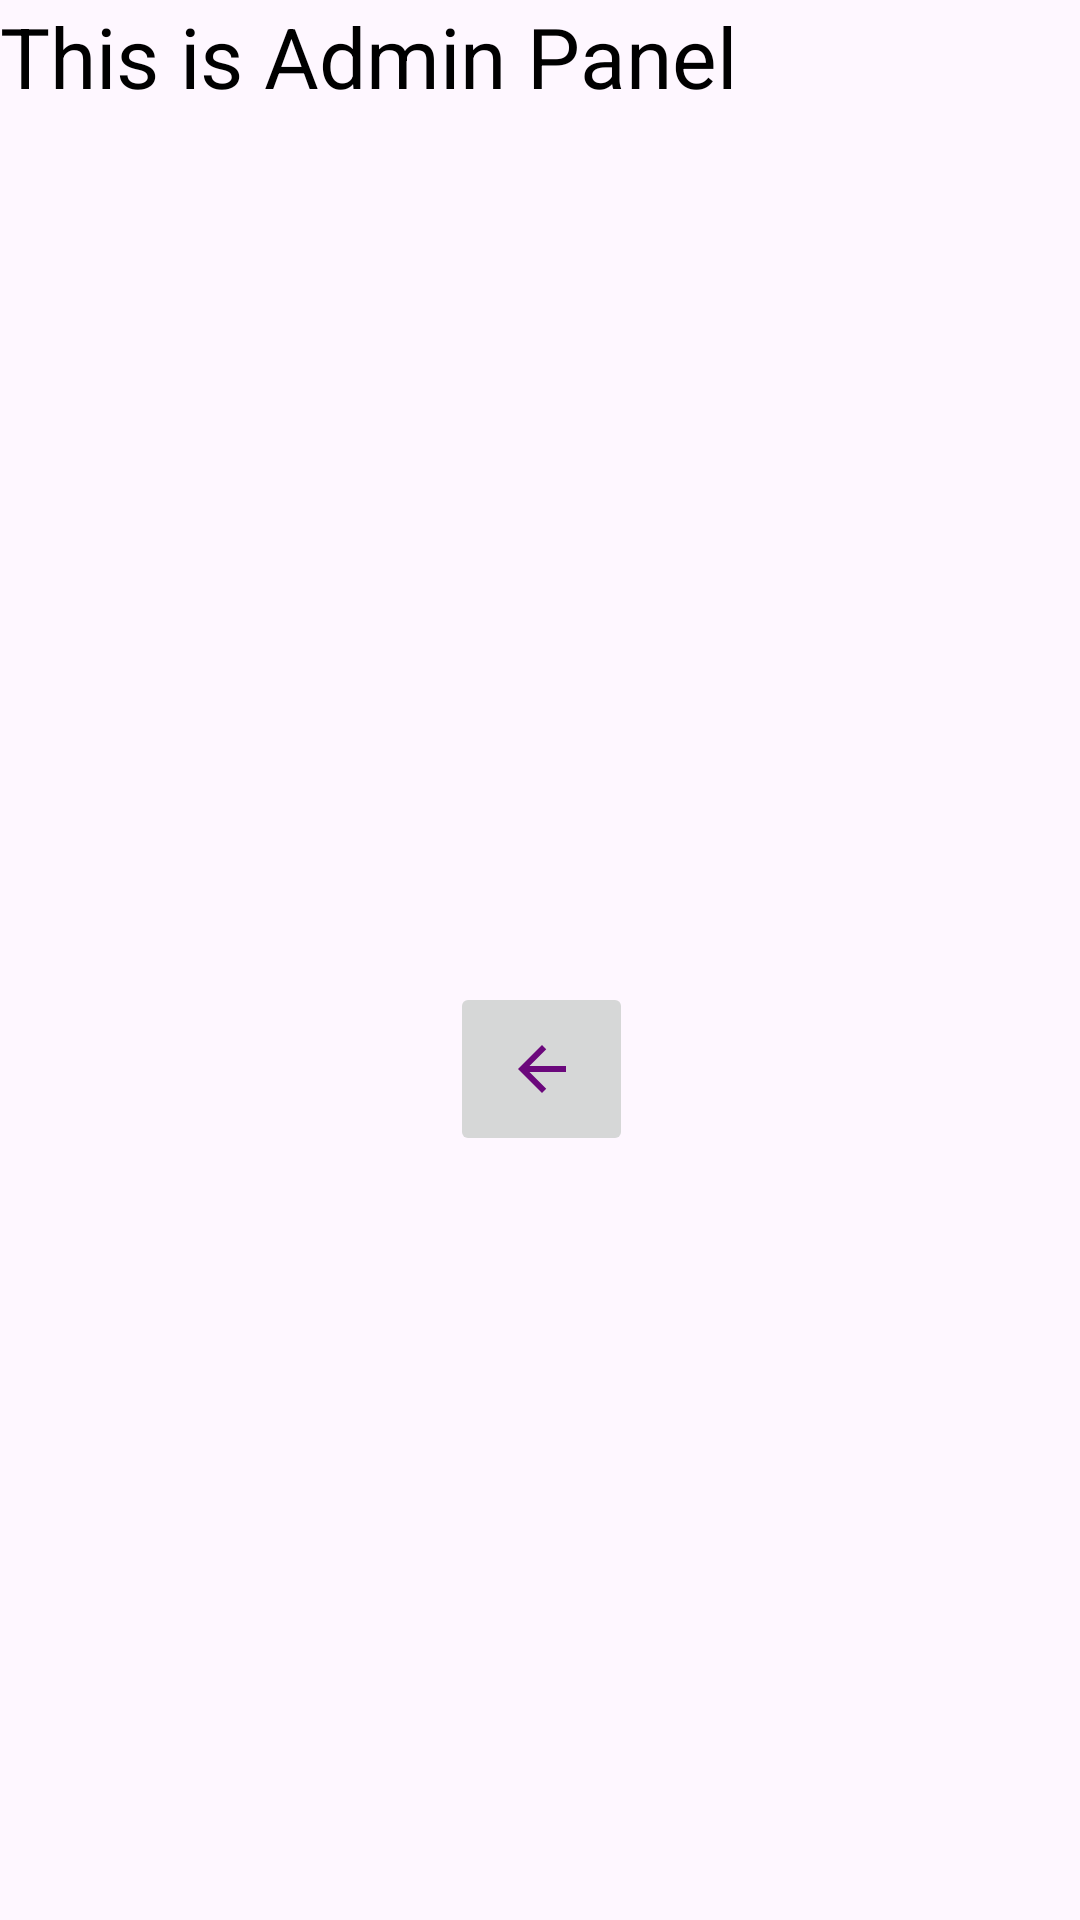

Where icons sit on this 1080 × 1920 app screen, as bbox=[x1, y1, x2, y2]:
arrow back: bbox=[462, 1000, 621, 1138]
